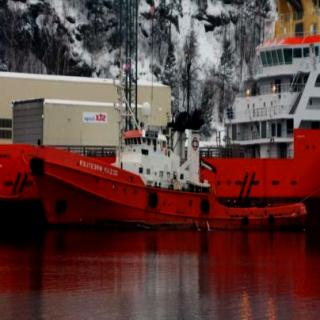Tug Boat: (32, 26, 320, 228)
